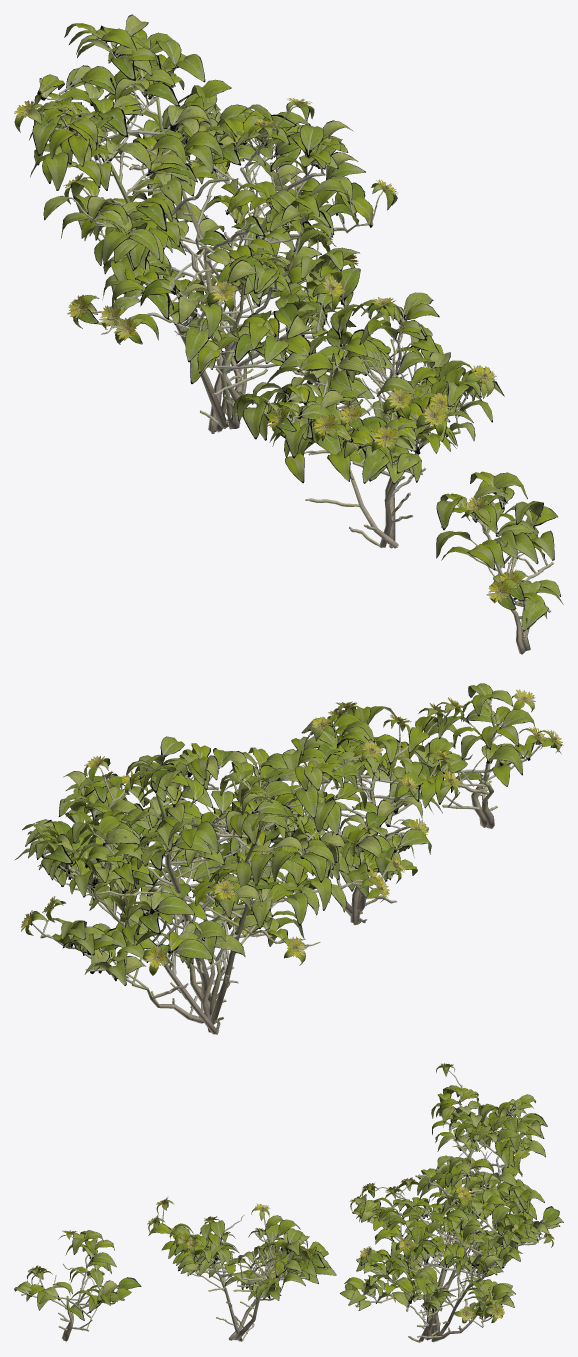
Rendered from didelta_spinosa.glb.
The picture shows the model from 3 angles, top to bottom: view 1: azimuth 30°, elevation 25°; view 2: azimuth 150°, elevation 25°; view 3: azimuth 270°, elevation 25°; orthographic projection. The views are drawn at different scales.
Visible parts, largest first — view 1: didelta_spinosa_large_LOD0; view 2: didelta_spinosa_large_LOD0; view 3: didelta_spinosa_large_LOD0.
Boxes of the visible parts, box(x1,y1,x2,y2) form: didelta_spinosa_large_LOD0: box(14, 14, 563, 654); didelta_spinosa_large_LOD0: box(15, 683, 563, 1034); didelta_spinosa_large_LOD0: box(14, 1063, 563, 1342).
Size of the model in its own units: 2.12 by 2.07 by 4.56.
1 material, 1 textured.
